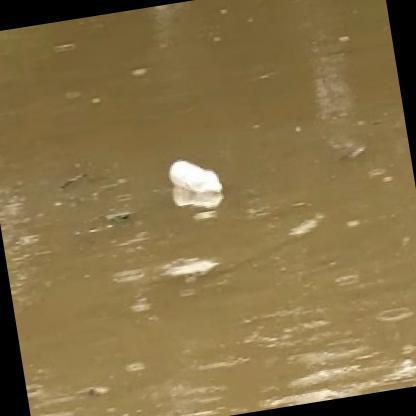plastic bottle: (169, 159, 223, 195)
